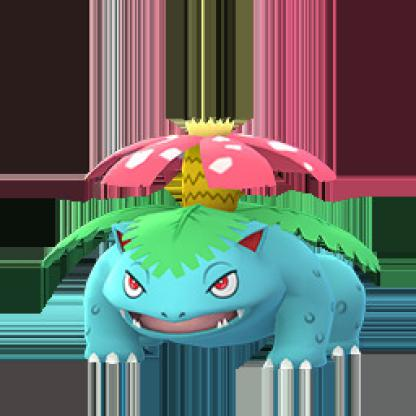Venusaur: (33, 127, 391, 390)
